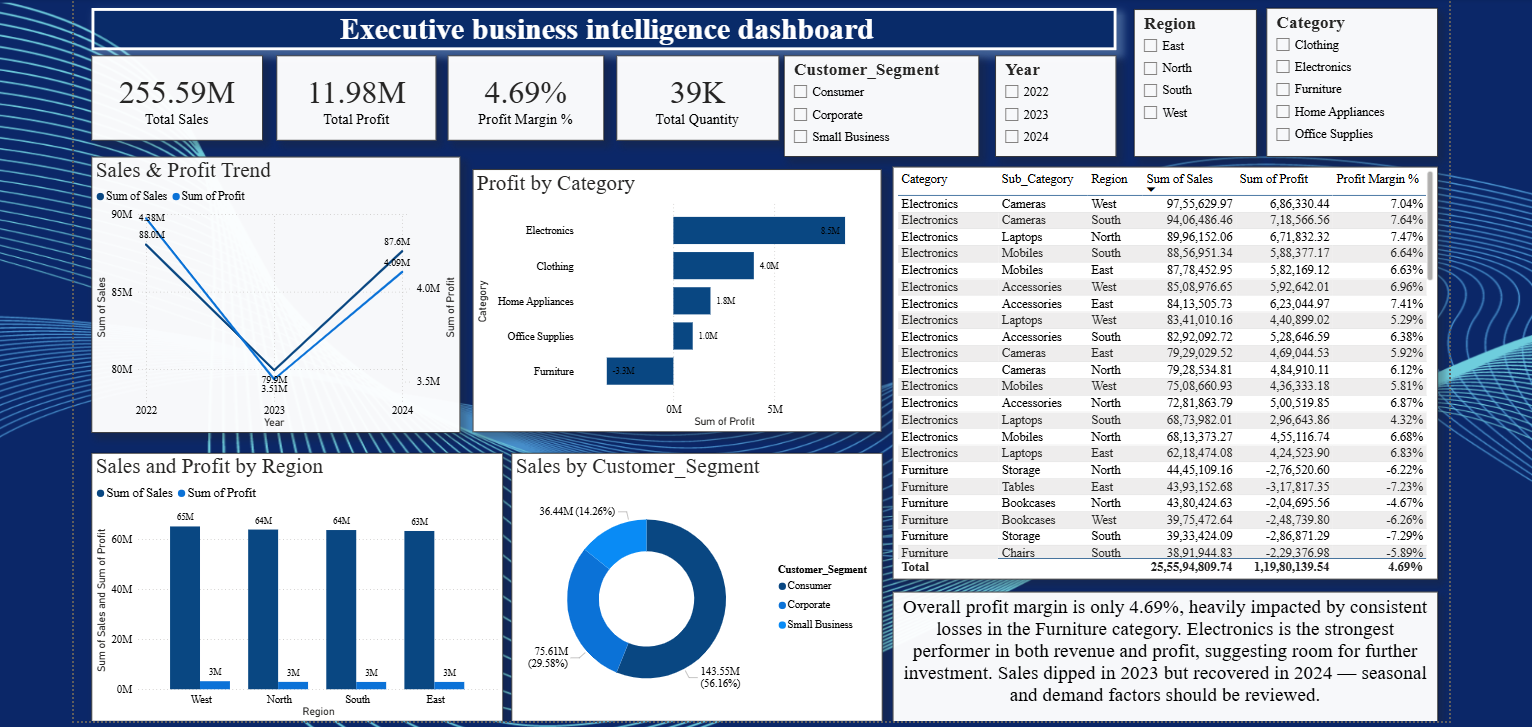

The page's visual inventory and layout, read from the dashboard file:
{"tool":"powerbi","page":{"name":"Page 1","canvas":[1900,1000],"ordinal":0},"visuals":[{"type":"textbox","title":" Executive business intelligence dashboard","box":[24.2,13.8,1416.7,58.7],"z":0},{"type":"card","fields":{"Values":["Sum(Executive_BI_Sales_Dataset.Sales)"]},"box":[24.2,79.5,236.7,117.5],"z":1000},{"type":"card","fields":{"Values":["Sum(Executive_BI_Sales_Dataset.Profit)"]},"box":[279.9,79.5,221.1,117.5],"z":2000},{"type":"card","fields":{"Values":["Executive_BI_Sales_Dataset.Profit Margin %"]},"box":[516.6,79.5,216,117.5],"z":3000},{"type":"card","fields":{"Values":["Sum(Executive_BI_Sales_Dataset.Quantity)"]},"box":[749.8,79.5,224.6,117.5],"z":4000},{"type":"slicer","fields":{"Values":["Executive_BI_Sales_Dataset.Region"]},"box":[1465.1,15.5,169.3,203.9],"z":5000},{"type":"slicer","fields":{"Values":["Executive_BI_Sales_Dataset.Category"]},"box":[1648.2,13.8,236.7,205.6],"z":6000},{"type":"slicer","fields":{"Values":["Executive_BI_Sales_Dataset.Customer_Segment"]},"box":[981.3,79.5,269.5,139.9],"z":7000},{"type":"slicer","fields":{"Values":["Executive_BI_Sales_Dataset.Year"]},"box":[1273.3,79.5,167.6,139.9],"z":8000},{"type":"lineChart","title":"Sales & Profit Trend","fields":{"Y":["Sum(Executive_BI_Sales_Dataset.Sales)"],"Category":["Executive_BI_Sales_Dataset.Order_Date.Variation.Date Hierarchy.Year"],"Y2":["Sum(Executive_BI_Sales_Dataset.Profit)"]},"box":[24.2,219.4,509.7,381.8],"z":9000},{"type":"clusteredBarChart","title":" Profit by Category","fields":{"Category":["Executive_BI_Sales_Dataset.Category"],"Y":["Sum(Executive_BI_Sales_Dataset.Profit)"]},"box":[551.1,236.7,565,362.8],"z":10000},{"type":"clusteredColumnChart","title":"Sales and Profit by Region","fields":{"Category":["Executive_BI_Sales_Dataset.Region"],"Y":["Sum(Executive_BI_Sales_Dataset.Sales)","Sum(Executive_BI_Sales_Dataset.Profit)"]},"box":[24.2,628.9,568.4,371.5],"z":11000},{"type":"donutChart","title":"Sales by Customer_Segment","fields":{"Category":["Executive_BI_Sales_Dataset.Customer_Segment"],"Y":["Sum(Executive_BI_Sales_Dataset.Sales)"]},"box":[604.7,628.9,513.1,371.5],"z":12000},{"type":"tableEx","fields":{"Values":["Executive_BI_Sales_Dataset.Category","Executive_BI_Sales_Dataset.Sub_Category","Executive_BI_Sales_Dataset.Region","Sum(Executive_BI_Sales_Dataset.Sales)","Sum(Executive_BI_Sales_Dataset.Profit)","Executive_BI_Sales_Dataset.Profit Margin %"]},"box":[1131.7,233.2,753.3,570.1],"z":13000},{"type":"textbox","box":[1131.7,820.7,753.3,179.7],"z":14000}]}

Visuals, with their boxes in screenshot pixels (x1, y1, x2, y2):
" Executive business intelligence dashboard" textbox: 97 6 1112 48
card - Sum(Executive_BI_Sales_Dataset.Sales): 97 53 267 137
card - Sum(Executive_BI_Sales_Dataset.Profit): 280 53 439 137
card - Executive_BI_Sales_Dataset.Profit Margin %: 450 53 604 137
card - Sum(Executive_BI_Sales_Dataset.Quantity): 617 53 778 137
slicer - Executive_BI_Sales_Dataset.Region: 1129 7 1250 153
slicer - Executive_BI_Sales_Dataset.Category: 1260 6 1430 153
slicer - Executive_BI_Sales_Dataset.Customer_Segment: 782 53 975 153
slicer - Executive_BI_Sales_Dataset.Year: 992 53 1112 153
"Sales & Profit Trend" lineChart: 97 153 462 427
" Profit by Category" clusteredBarChart: 474 166 879 425
"Sales and Profit by Region" clusteredColumnChart: 97 446 504 712
"Sales by Customer_Segment" donutChart: 513 446 880 712
tableEx - Executive_BI_Sales_Dataset.Category x Executive_BI_Sales_Dataset.Sub_Category: 890 163 1430 571
textbox: 890 584 1430 712
